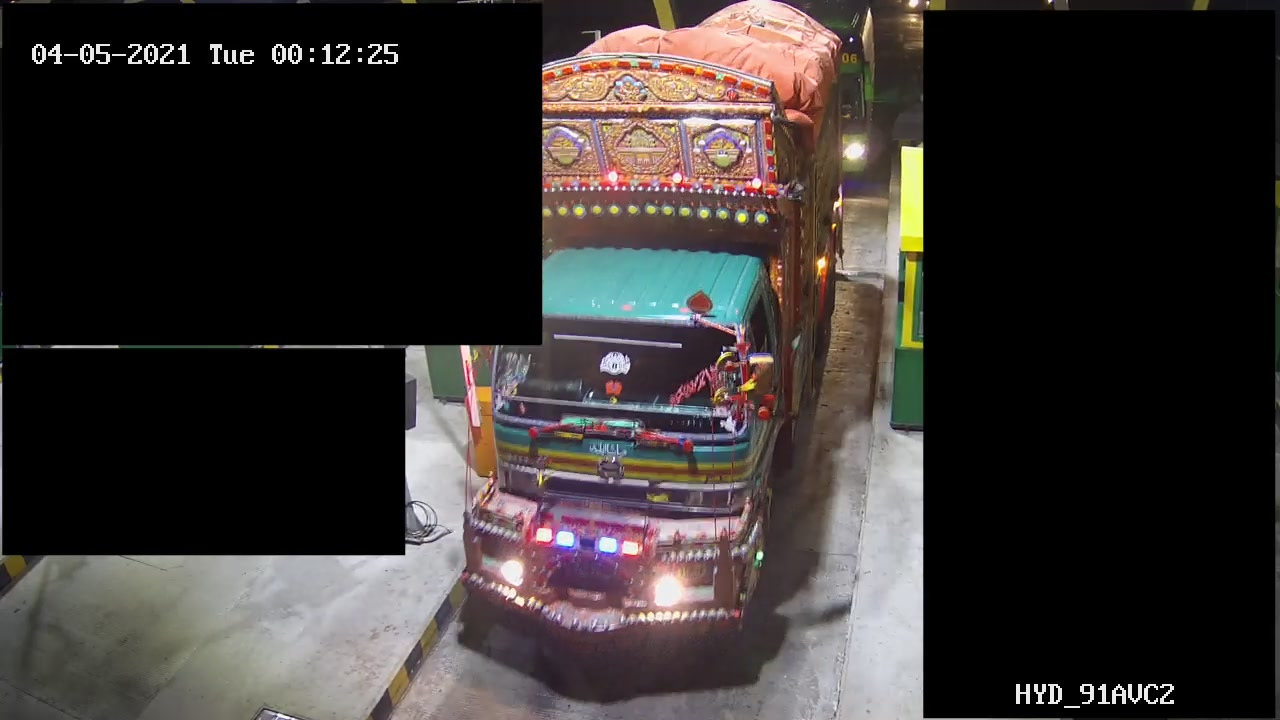F5: (442, 1, 854, 657)
